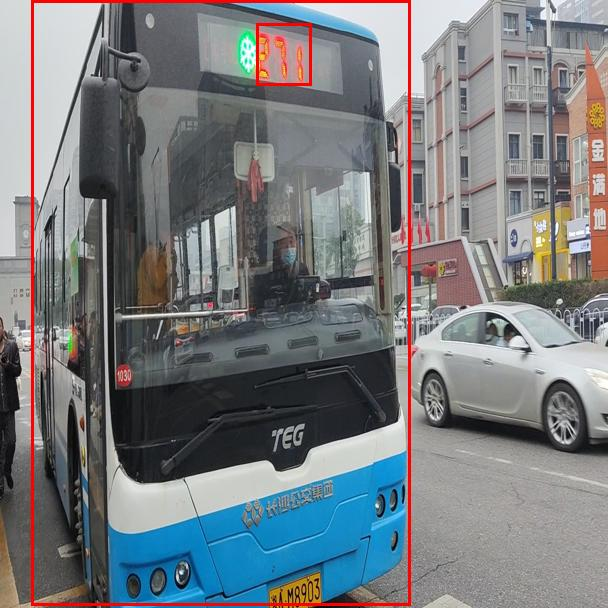bus: (31, 0, 410, 605)
screen: (256, 23, 311, 85)
